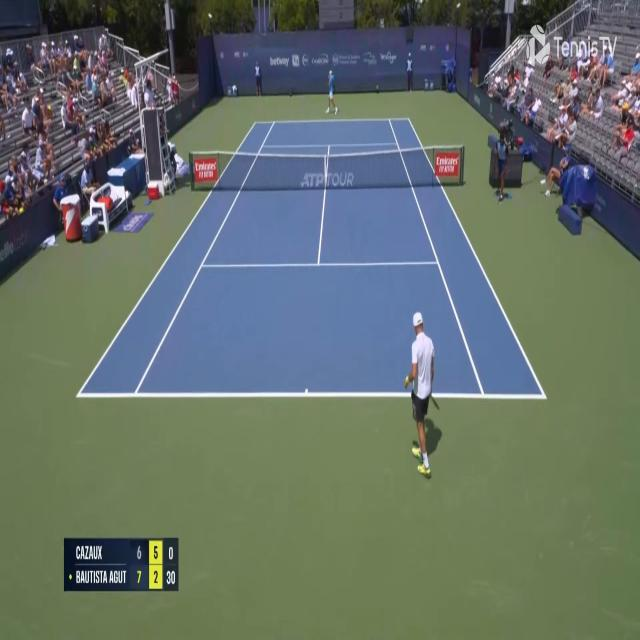tennis-player: (402, 308, 442, 480), (325, 66, 340, 115)
